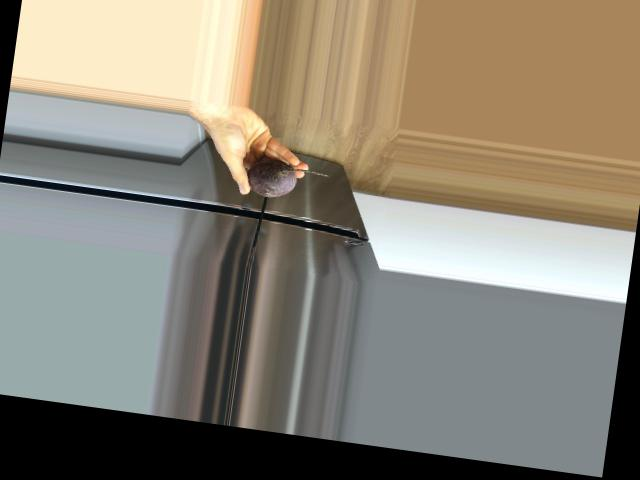beet: (245, 156, 331, 205)
